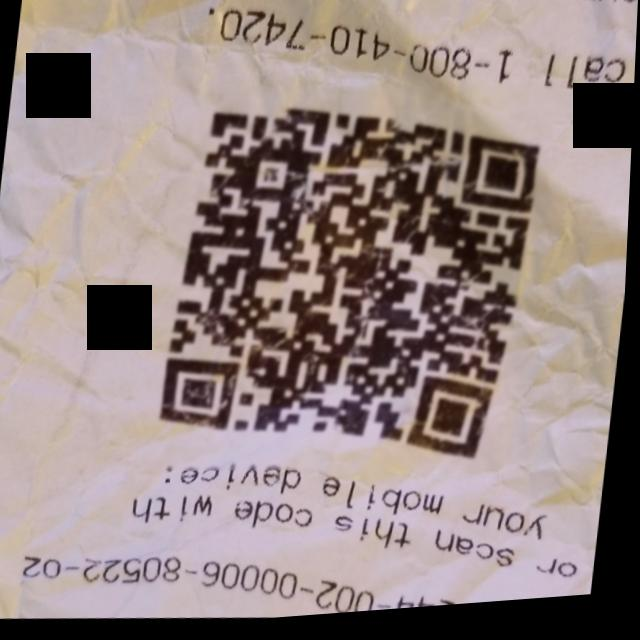QR_CODE: (144, 69, 558, 499)
